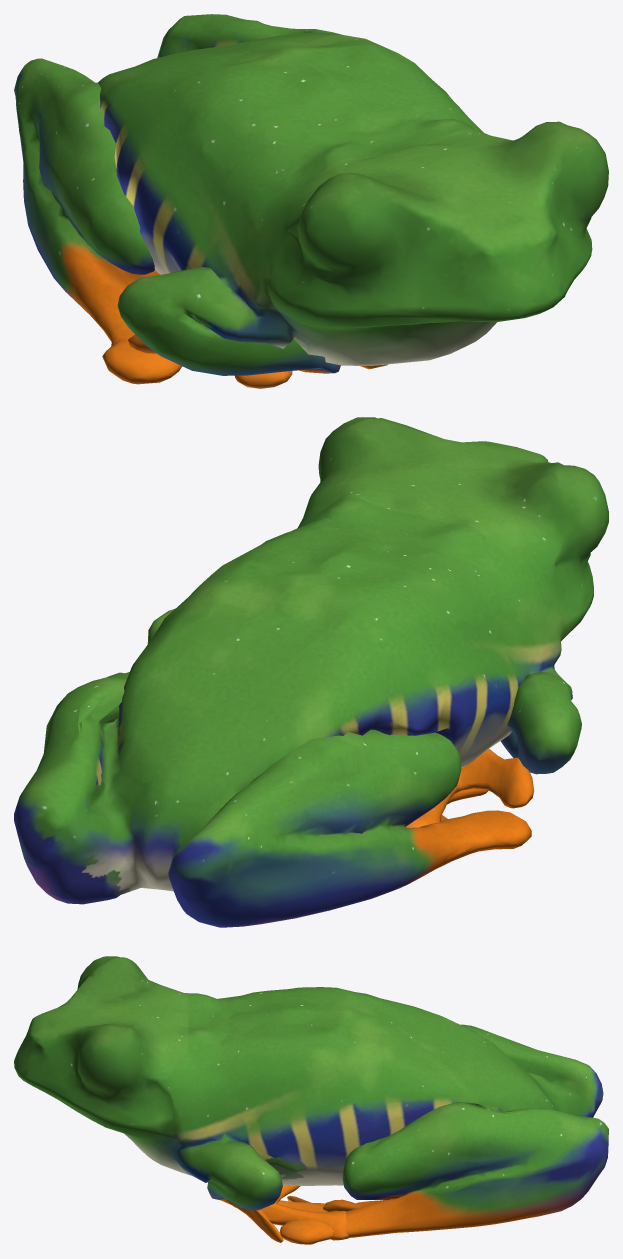
The model's file is redeye.sleep.glb.
3 renders of one model, top to bottom at view 1: azimuth 30°, elevation 25°; view 2: azimuth 150°, elevation 25°; view 3: azimuth 270°, elevation 25°, orthographic. The views are drawn at different scales.
Parts seen in each view (by area): view 1: redeye.sleep; view 2: redeye.sleep; view 3: redeye.sleep.
Boxes of the visible parts, left/top/right/bottom form: redeye.sleep: left=14, top=14, right=608, bottom=388; redeye.sleep: left=14, top=417, right=608, bottom=927; redeye.sleep: left=14, top=956, right=608, bottom=1244.
Size of the model in its own units: 0.0347 by 0.0209 by 0.0586.
Materials: 1 (1 with a texture image).
